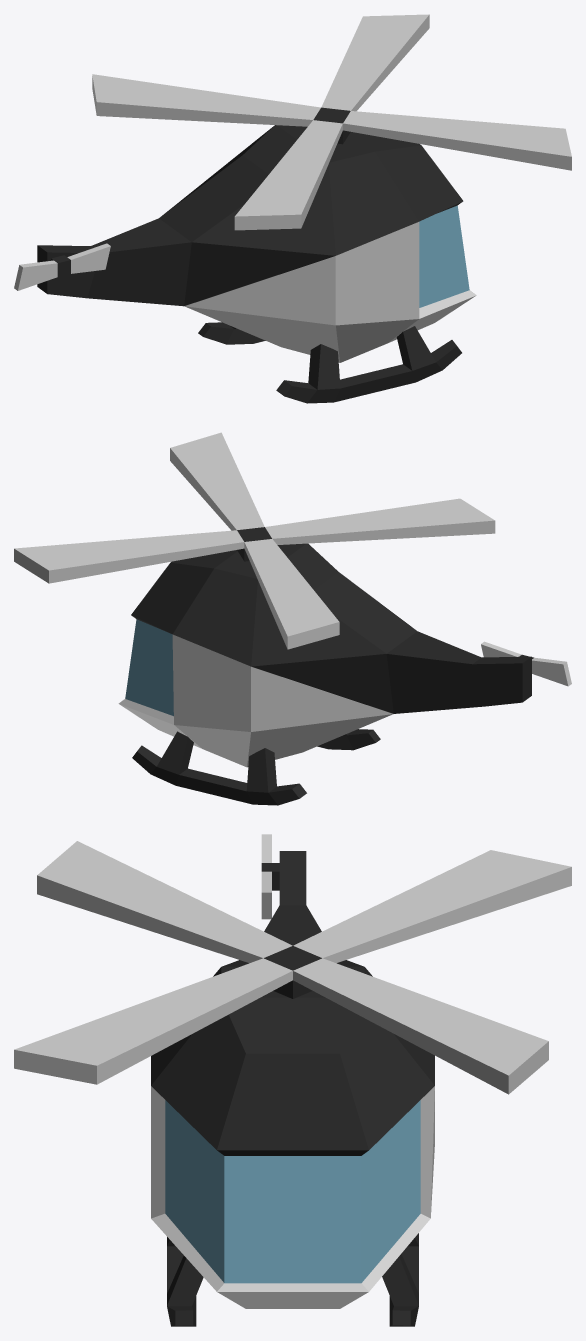
The model's file is Helicopter.fbx.
3 views of the same model, one above another, from view 1: azimuth 30°, elevation 25°; view 2: azimuth 150°, elevation 25°; view 3: azimuth 270°, elevation 25° (orthographic). The views are drawn at different scales.
Visible parts, largest first — view 1: HeliBody, MainPropeller, SmallPropeller; view 2: HeliBody, MainPropeller, SmallPropeller; view 3: HeliBody, MainPropeller, SmallPropeller.
Boxes of the visible parts, left/top/right/bottom form: HeliBody: left=37, top=125, right=476, bottom=403; MainPropeller: left=92, top=14, right=571, bottom=230; SmallPropeller: left=14, top=243, right=110, bottom=290; HeliBody: left=118, top=543, right=531, bottom=805; MainPropeller: left=14, top=432, right=495, bottom=649; SmallPropeller: left=481, top=641, right=571, bottom=686; HeliBody: left=151, top=851, right=434, bottom=1326; MainPropeller: left=14, top=841, right=571, bottom=1094; SmallPropeller: left=261, top=834, right=279, bottom=919.
Bounding box in the file's own units: 378 × 175 × 267.
